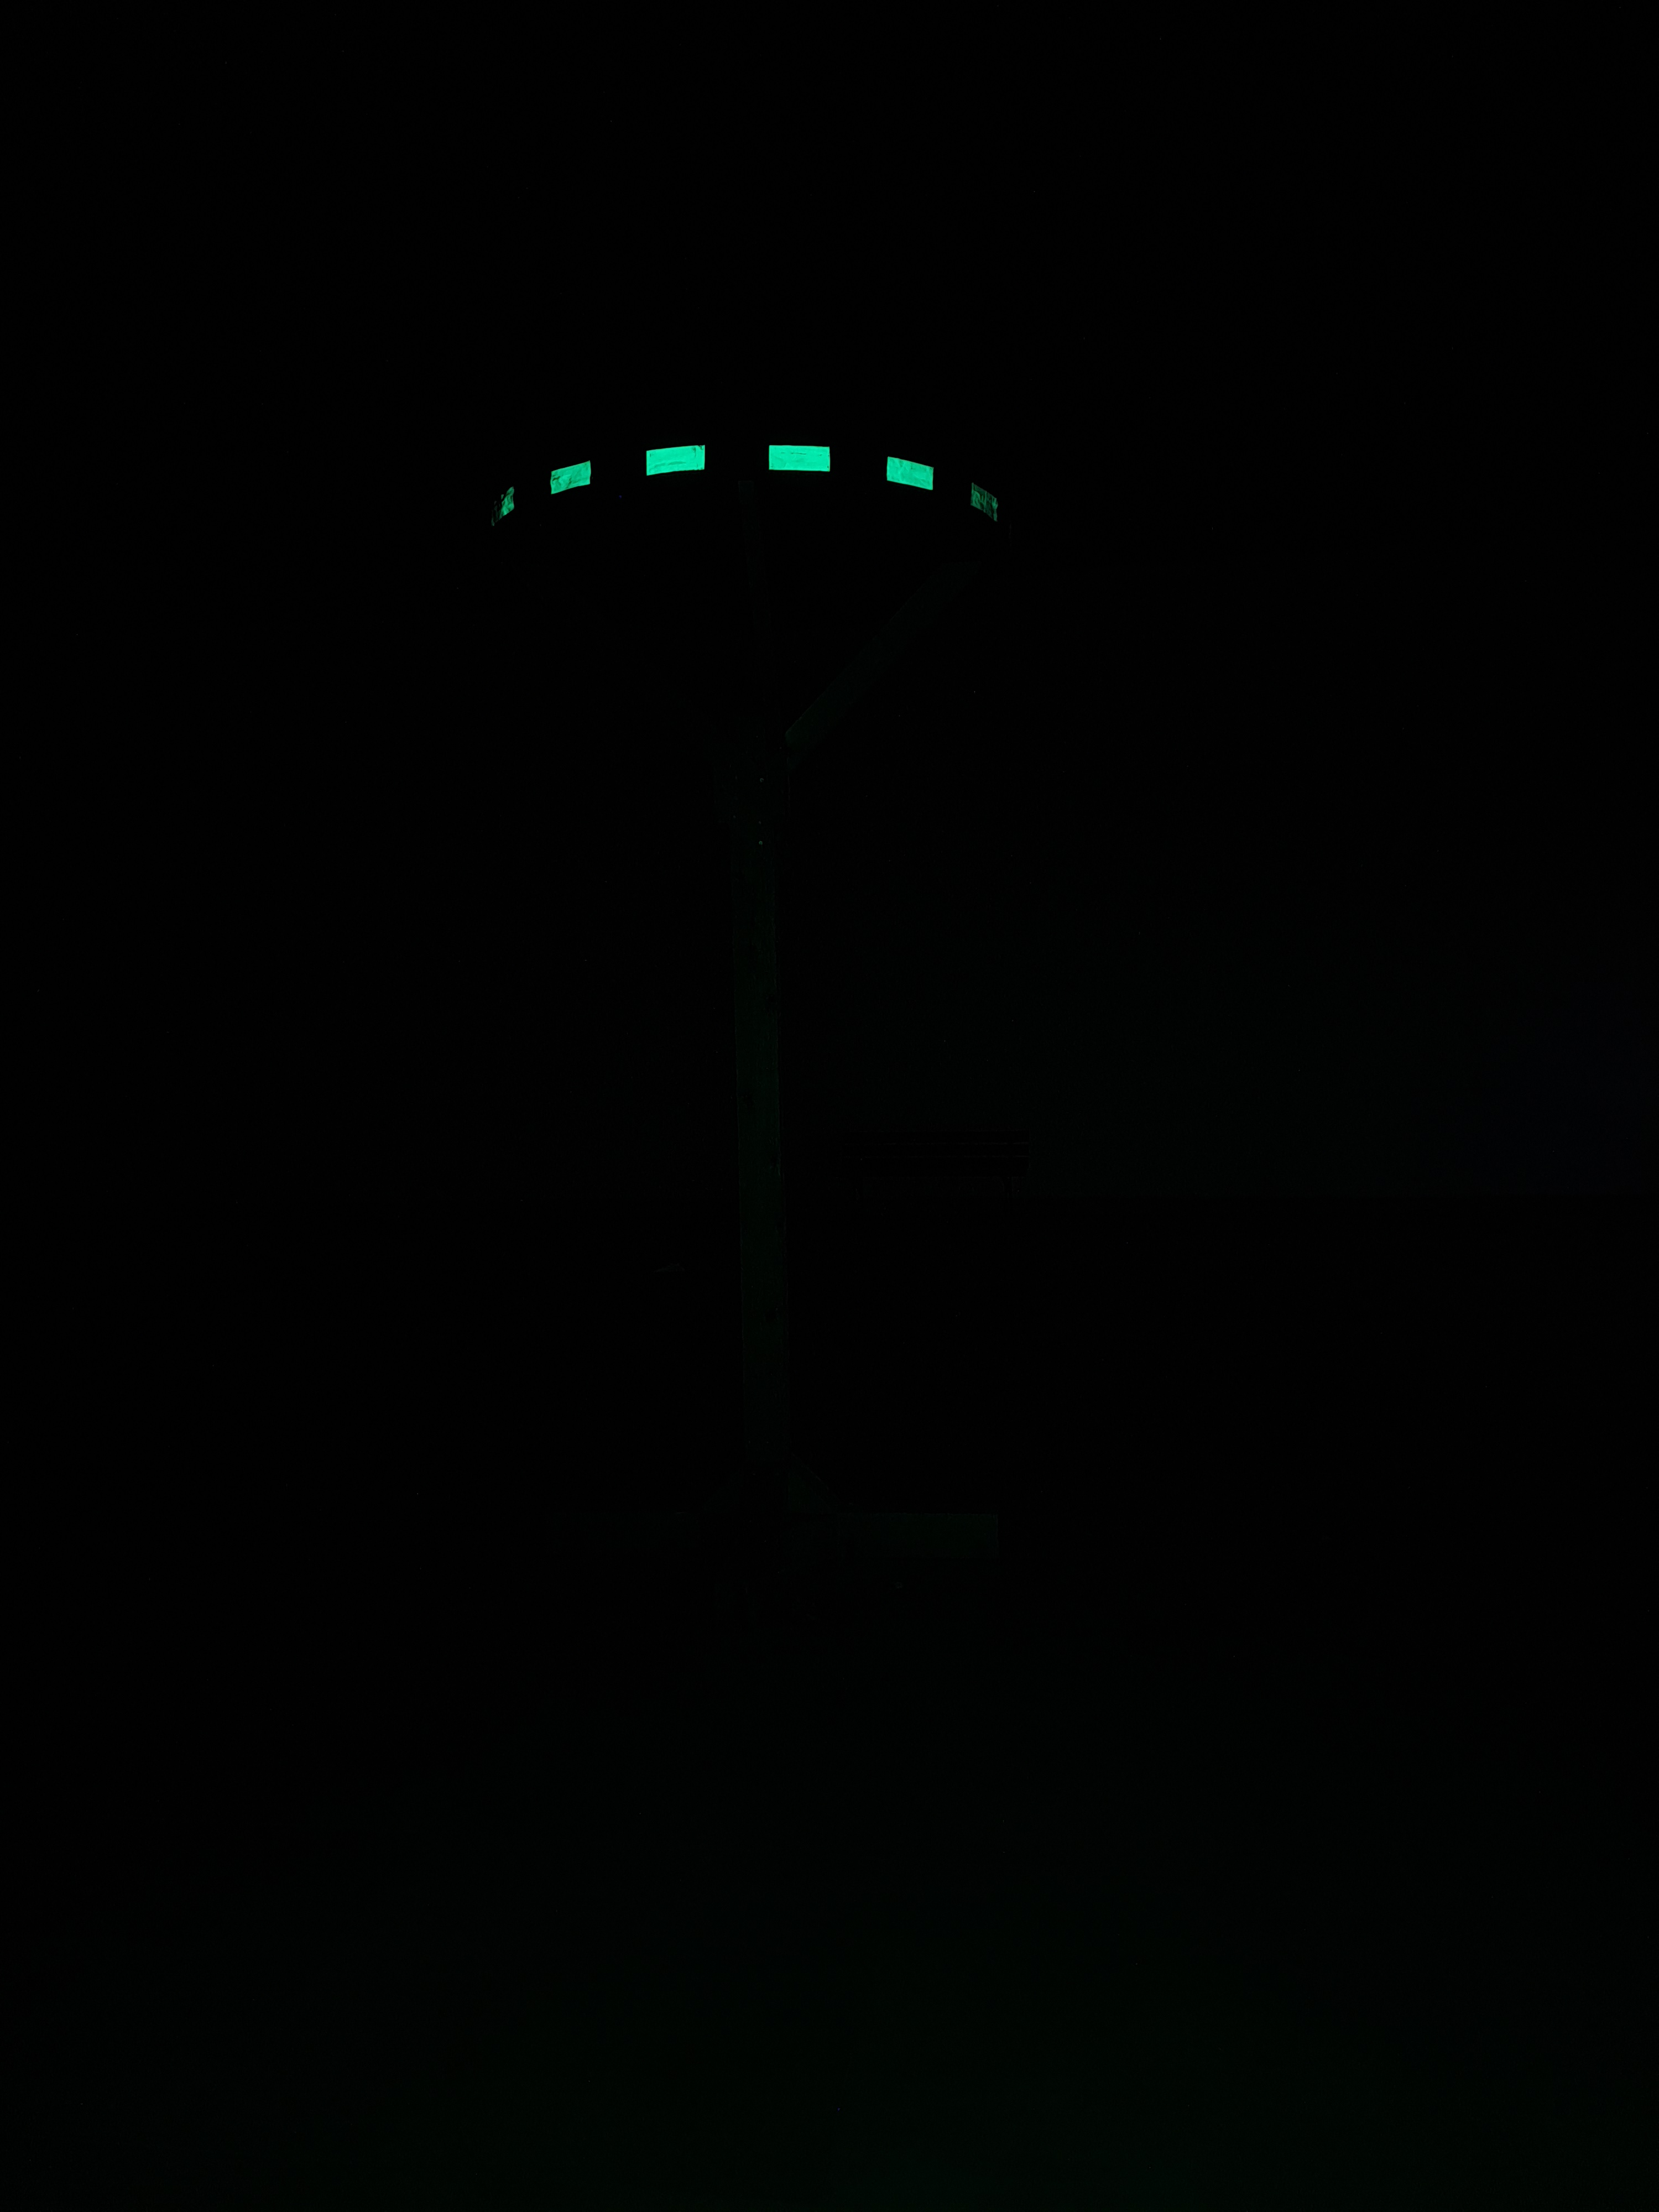hoop: (469, 435, 1004, 545)
